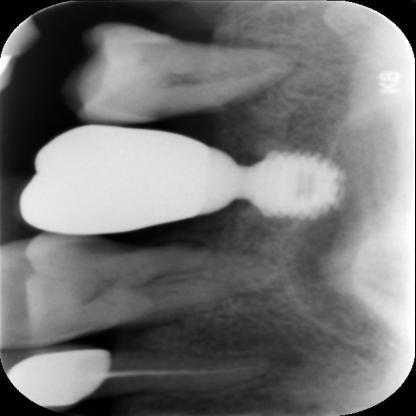Bicon: (246, 144, 348, 222)
